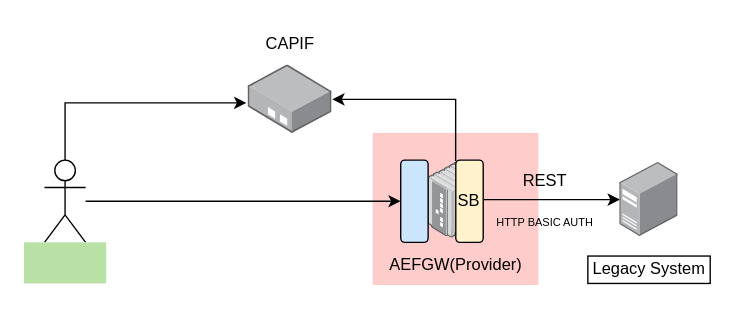
Some shapes in this 734 by 310 pixel diagram are drawn without their labels. The shapes that lost their labels are listed below. From the top down, each one's box as (x1, y1, x2, y2) in pixels, then its label:
(399, 159, 428, 242): NB
(23, 242, 105, 283): INVOKER
